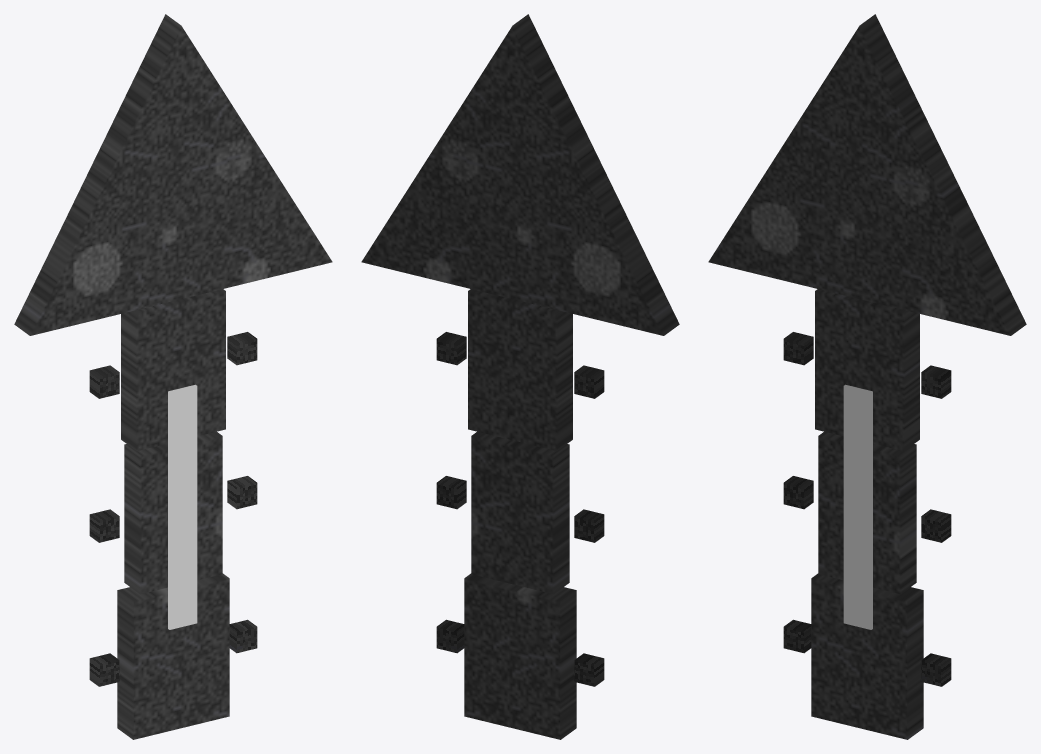
File: arrow_up_cool.obj
3 renders of one model, left to right at view 1: azimuth 30°, elevation 25°; view 2: azimuth 150°, elevation 25°; view 3: azimuth 330°, elevation 25°, orthographic.
Visible parts, largest first — view 1: ArrowHead, ArrowStem, ArrowGlow, ArrowBolts; view 2: ArrowHead, ArrowStem, ArrowBolts; view 3: ArrowHead, ArrowStem, ArrowGlow, ArrowBolts.
Part boxes in pixels (x1,y1,x2,y2): ArrowHead: (14,14,332,335); ArrowStem: (117,289,229,739); ArrowGlow: (168,384,197,629); ArrowBolts: (89,332,257,686); ArrowHead: (361,14,679,335); ArrowStem: (464,289,576,739); ArrowBolts: (436,332,604,686); ArrowHead: (708,14,1026,335); ArrowStem: (811,289,923,739); ArrowGlow: (843,384,872,629); ArrowBolts: (783,332,951,686).
Bounding box in the file's own units: 0.44 × 0.976 × 0.045.
3 materials, 2 textured.
